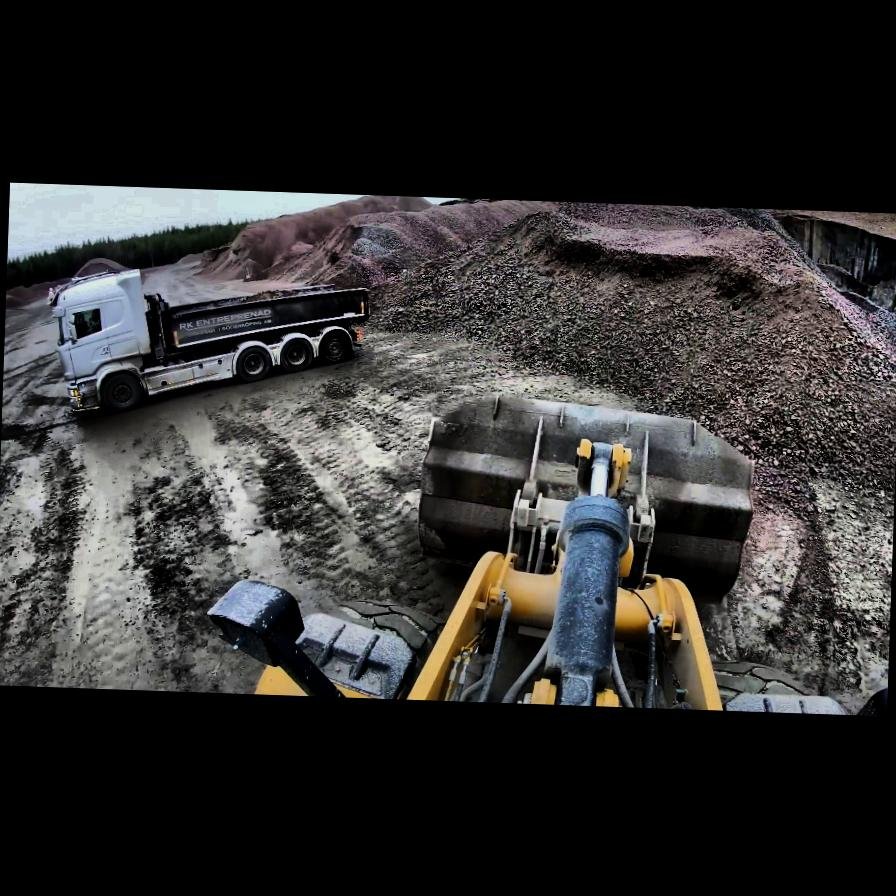anchor: (574, 438, 631, 498)
pile of gravel: (415, 195, 896, 529), (325, 575, 891, 714), (309, 191, 596, 341), (195, 188, 423, 292), (5, 273, 79, 312)
